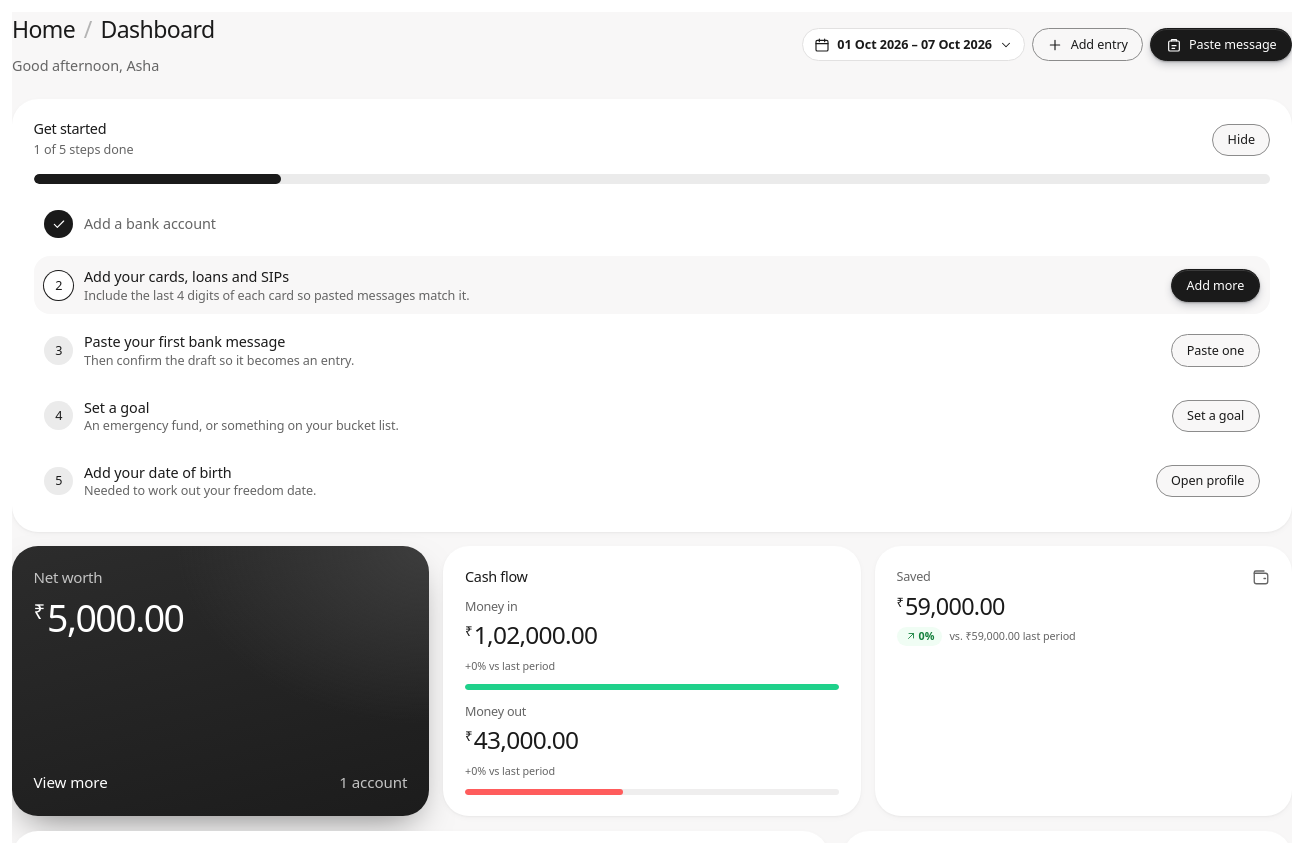
Test case: every page renders with realistic data › Dashboard shows the Get started checklist to a new user and Hide removes it
The image size is (1292, 843).
Expected: the heading "Get started" is shown, [34,119,106,138]
Expected: the text "1 of 5 steps done" is shown, [34,140,134,159]
What coordinates should you click on to do the following:
click the button "Hide"
I would click on:
 (1241, 140)
Its box is [1212,124,1270,156].
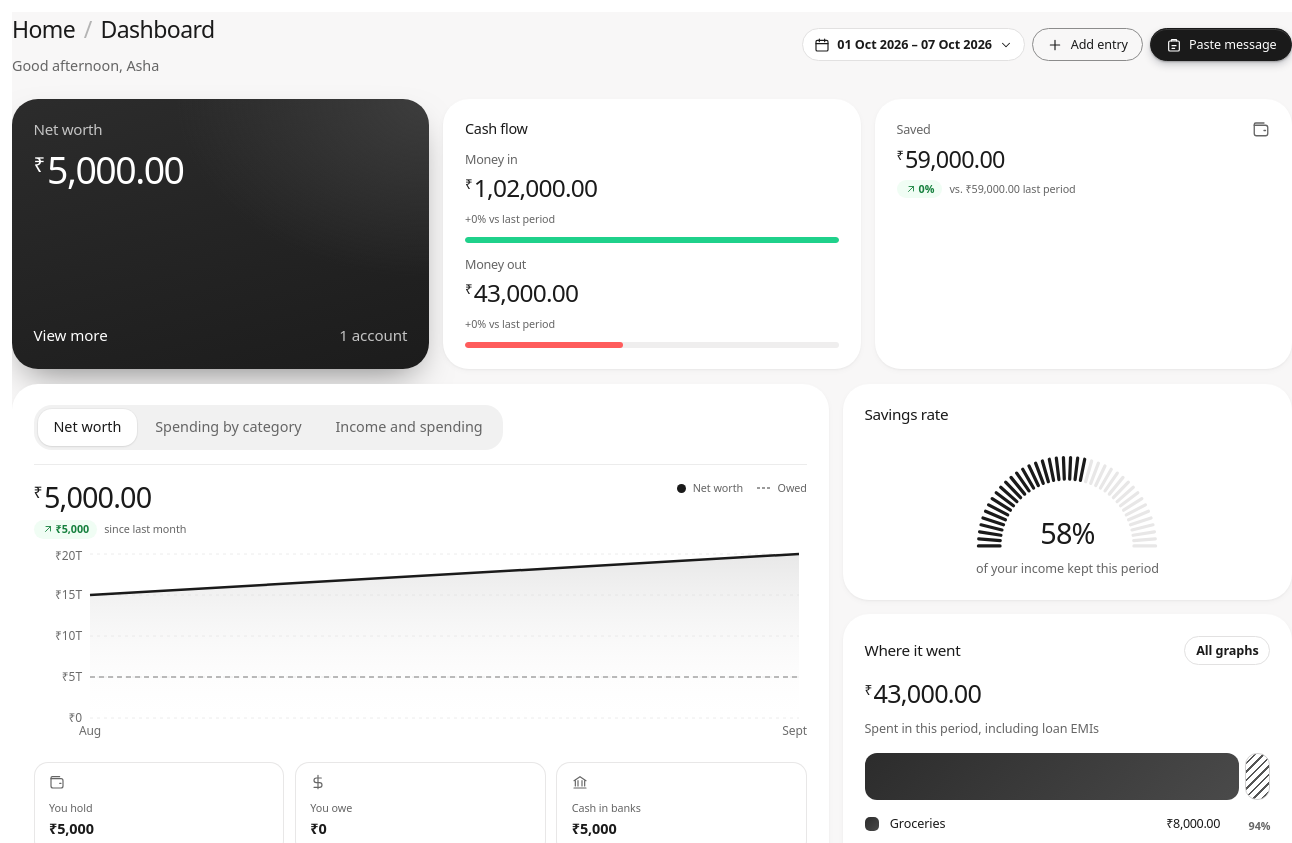
Expected: the heading "Get started" is gone
